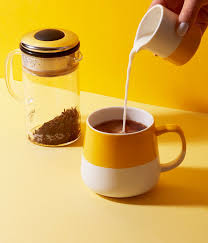mug: (83, 107, 195, 206)
